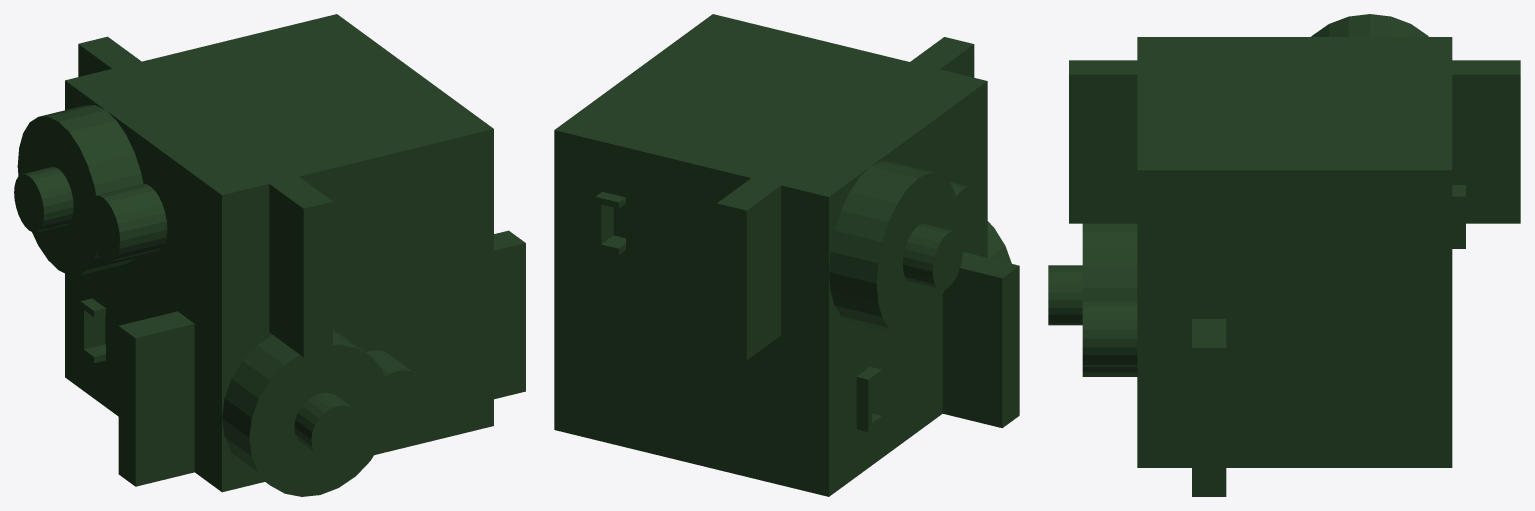
The model's file is ant_link1Leg_4_vis_1.dae.
The picture shows the model from 3 angles, left to right: view 1: azimuth 30°, elevation 25°; view 2: azimuth 150°, elevation 25°; view 3: azimuth 270°, elevation 25°; orthographic projection.
Visible parts, largest first — view 1: node; view 2: node; view 3: node.
Boxes of the visible parts, x1,y1,x2,y2 form: node: [14, 14, 525, 496]; node: [554, 14, 1019, 496]; node: [1048, 14, 1520, 496].
Size of the model in its own units: 0.0517 by 0.036 by 0.0518.
